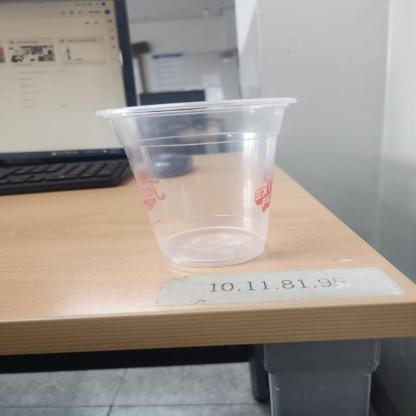Plastic Cup: (93, 96, 298, 266)
